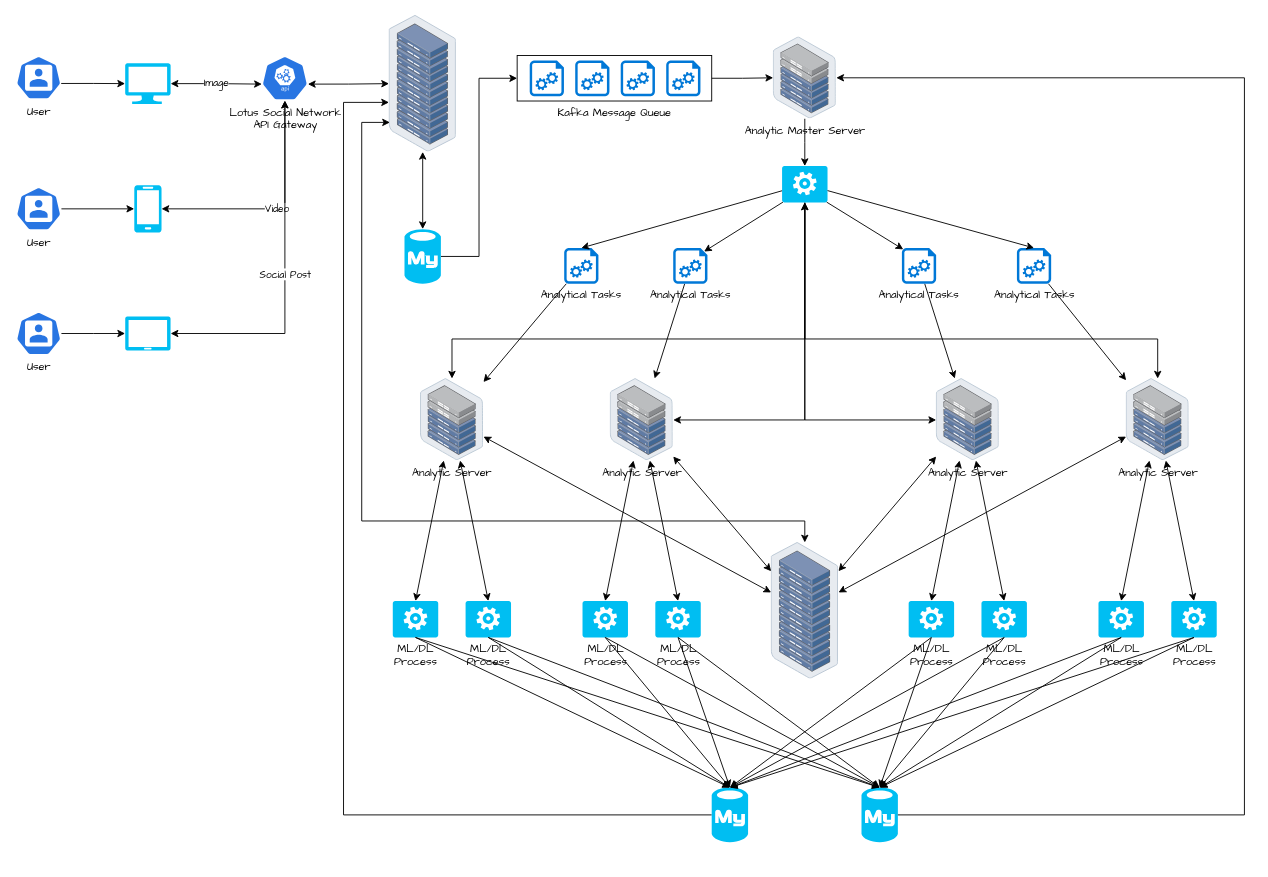
This 1268x877 diagram has some shape labels left out. Here are the shapes that lost their labels. From the top down, the box of each, then its label:
(389, 15, 456, 151): Lotus Server
(782, 166, 827, 202): Task Manager
(404, 229, 440, 283): Lotus Database
(771, 542, 838, 678): Cloud File Storage
(711, 787, 748, 842): Analysis DB
(861, 787, 897, 842): Status Log DB
